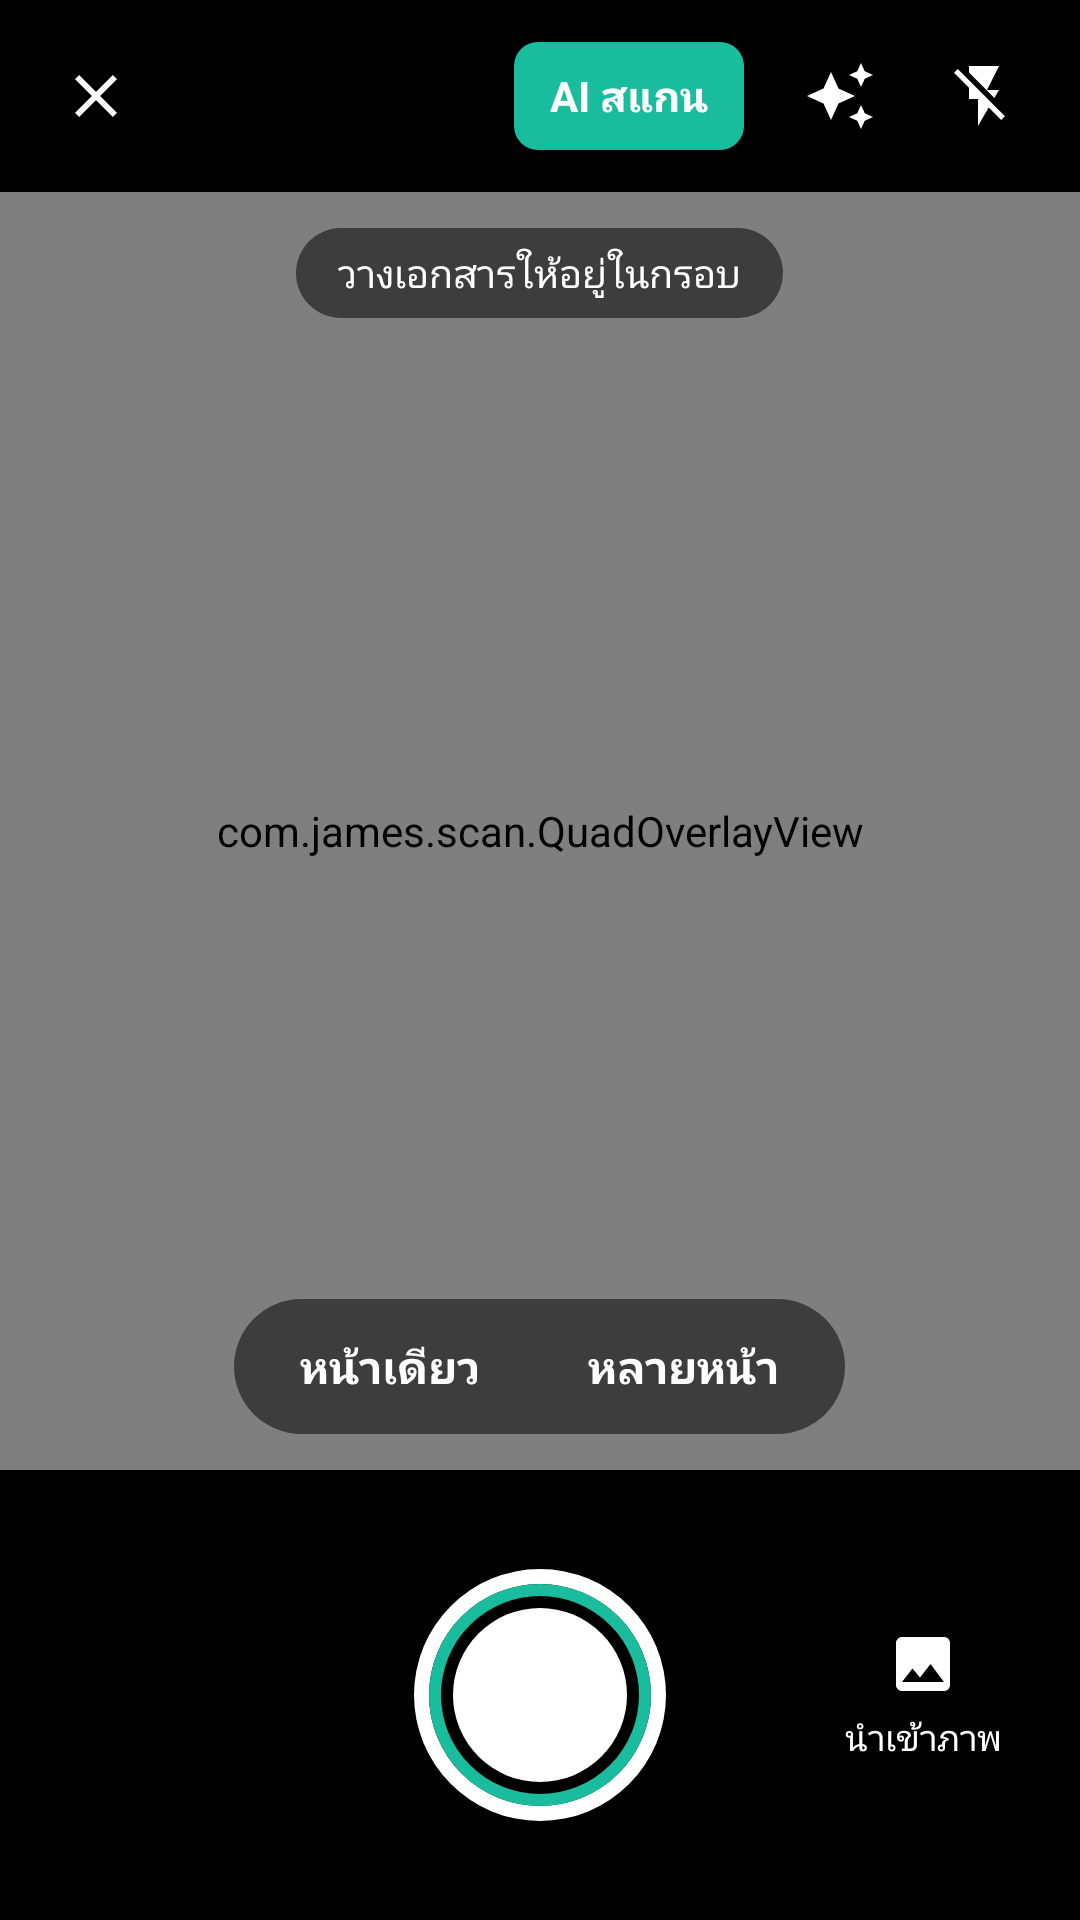

Icons on this 1080px×1920px Android screen, each with the point to tap as (x,y):
ถ่าย: (540,1695)
ถ่ายอัตโนมัติ: (840,96)
ปิด: (96,96)
แฟลช: (979,96)
